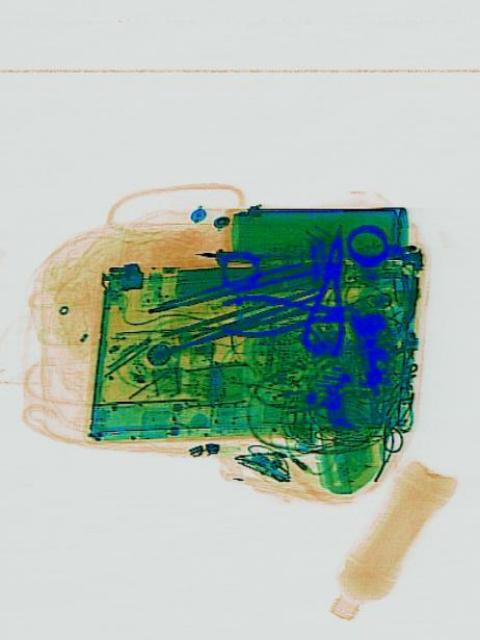Pliers: (297, 218, 359, 358), (217, 287, 360, 339)
